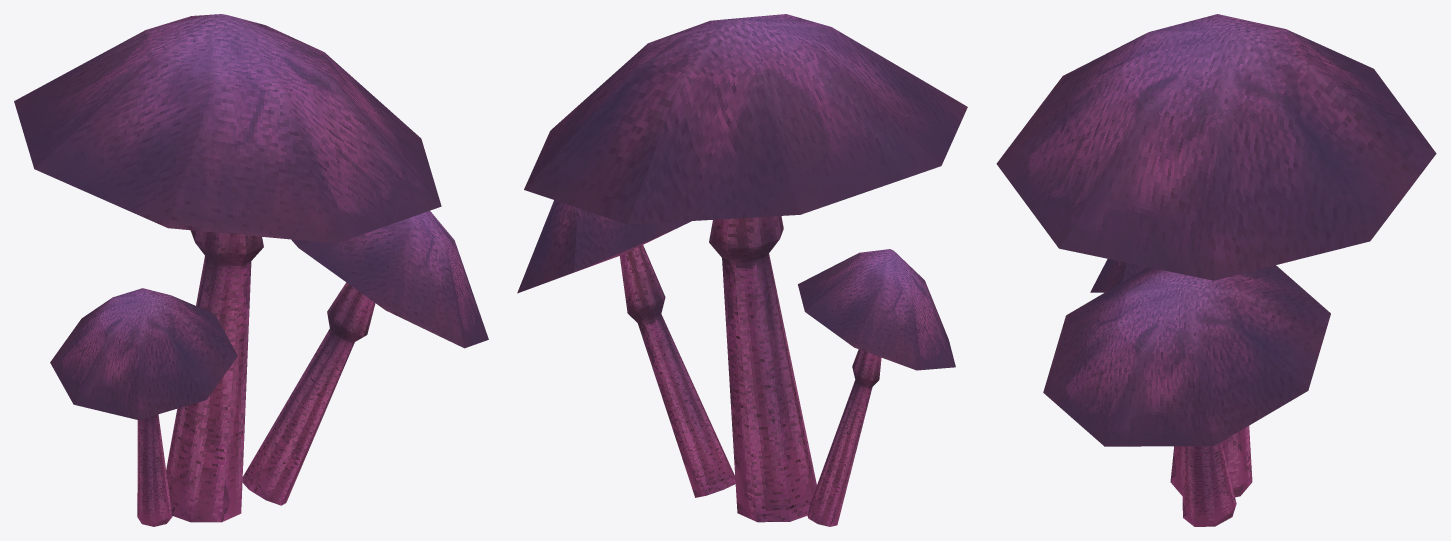
Rendered from BatchMushroom.glb.
The picture shows the model from 3 angles, left to right: view 1: azimuth 30°, elevation 25°; view 2: azimuth 150°, elevation 25°; view 3: azimuth 270°, elevation 25°; orthographic projection. The views are drawn at different scales.
Parts seen in each view (by area): view 1: Cylinder.007; view 2: Cylinder.007; view 3: Cylinder.007.
Boxes of the visible parts, x1,y1,x2,y2 form: Cylinder.007: [14, 14, 488, 526]; Cylinder.007: [517, 14, 967, 526]; Cylinder.007: [996, 14, 1436, 526].
Bounding box in the file's own units: 10.22 × 11.54 × 9.74.
3 materials, 3 textured.
